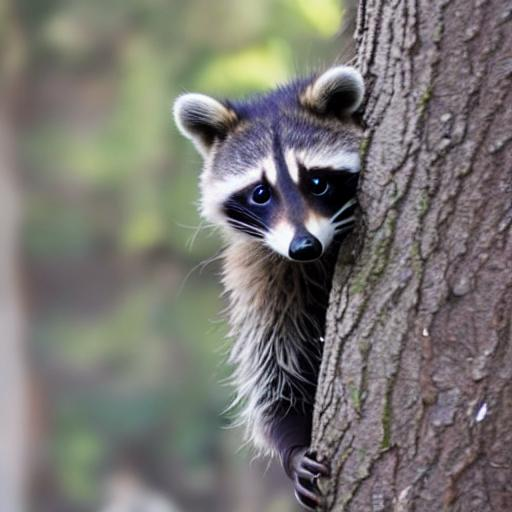raccoon: (170, 58, 374, 438)
